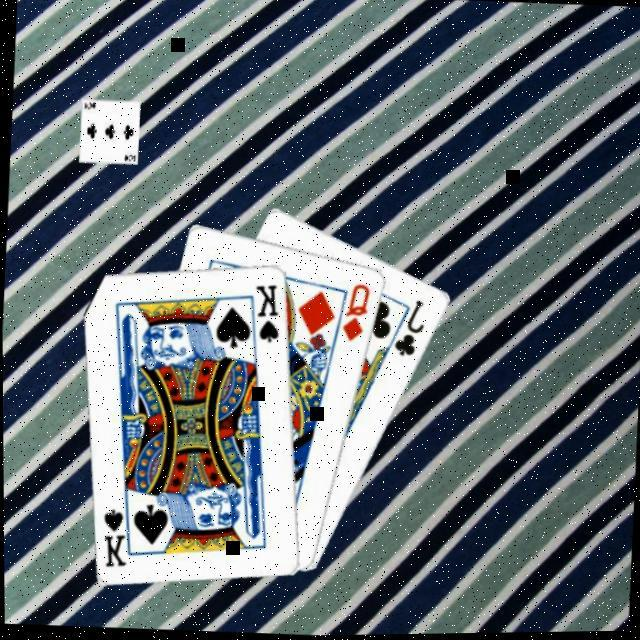JC: (389, 296, 427, 360)
KS: (95, 498, 135, 569), (249, 280, 282, 345)
QD: (337, 278, 372, 344)
